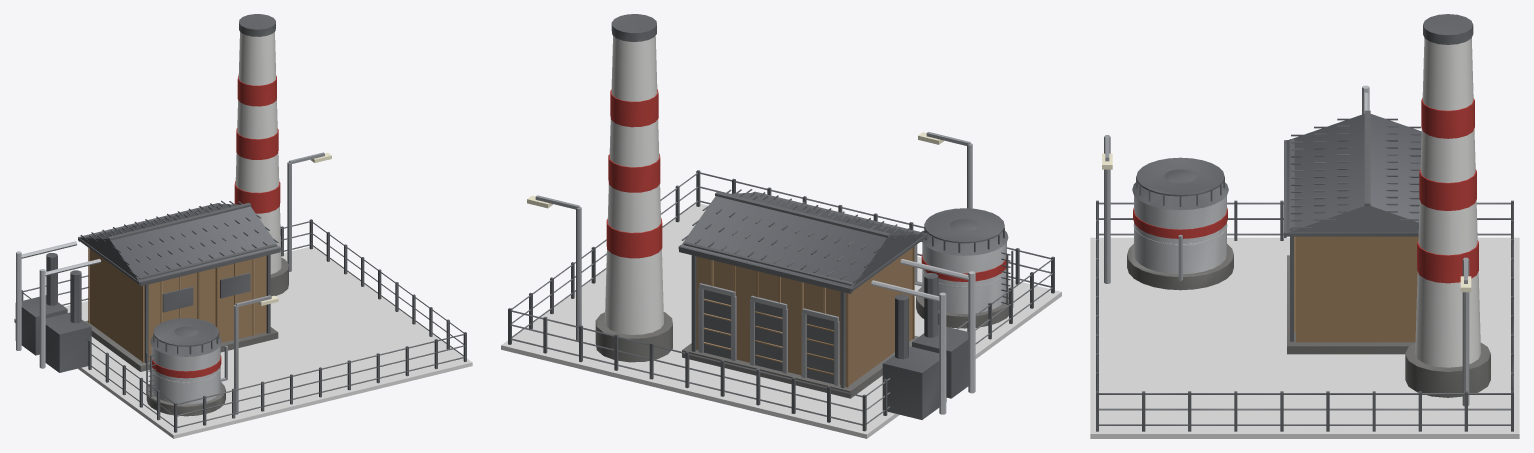
The model's file is Power_P1.fbx.
3 views of the same model, side by side, from view 1: azimuth 30°, elevation 25°; view 2: azimuth 150°, elevation 25°; view 3: azimuth 270°, elevation 25° (orthographic). The views are drawn at different scales.
Parts seen in each view (by area): view 1: Power.Yard, Power.Hall, Power.Stack0, Power.Tank0, Power.Switchyard, Power.Fence, Power.Lamp1, Power.Lamp0; view 2: Power.Hall, Power.Yard, Power.Stack0, Power.Switchyard, Power.Tank0, Power.Fence, Power.Lamp1, Power.Lamp0; view 3: Power.Yard, Power.Hall, Power.Stack0, Power.Tank0, Power.Fence, Power.Lamp1, Power.Lamp0.
Part boxes in pixels (x1,y1,x2,y2): Power.Yard: [14, 246, 472, 438]; Power.Hall: [78, 200, 280, 371]; Power.Stack0: [234, 14, 288, 296]; Power.Tank0: [146, 318, 227, 416]; Power.Switchyard: [15, 241, 100, 372]; Power.Fence: [21, 219, 466, 432]; Power.Lamp1: [287, 152, 331, 271]; Power.Lamp0: [234, 295, 278, 414]; Power.Hall: [678, 189, 926, 398]; Power.Yard: [501, 203, 1061, 438]; Power.Stack0: [595, 14, 672, 362]; Power.Switchyard: [871, 259, 975, 419]; Power.Tank0: [914, 208, 1013, 328]; Power.Fence: [508, 170, 1054, 431]; Power.Lamp1: [527, 195, 581, 340]; Power.Lamp0: [918, 132, 972, 208]; Power.Yard: [1090, 237, 1519, 438]; Power.Hall: [1284, 110, 1421, 354]; Power.Stack0: [1405, 14, 1490, 397]; Power.Tank0: [1127, 157, 1233, 290]; Power.Fence: [1096, 200, 1513, 431]; Power.Lamp1: [1460, 257, 1471, 406]; Power.Lamp0: [1102, 135, 1112, 283].
Bounding box in the file's own units: 2870 × 2221 × 2400.
